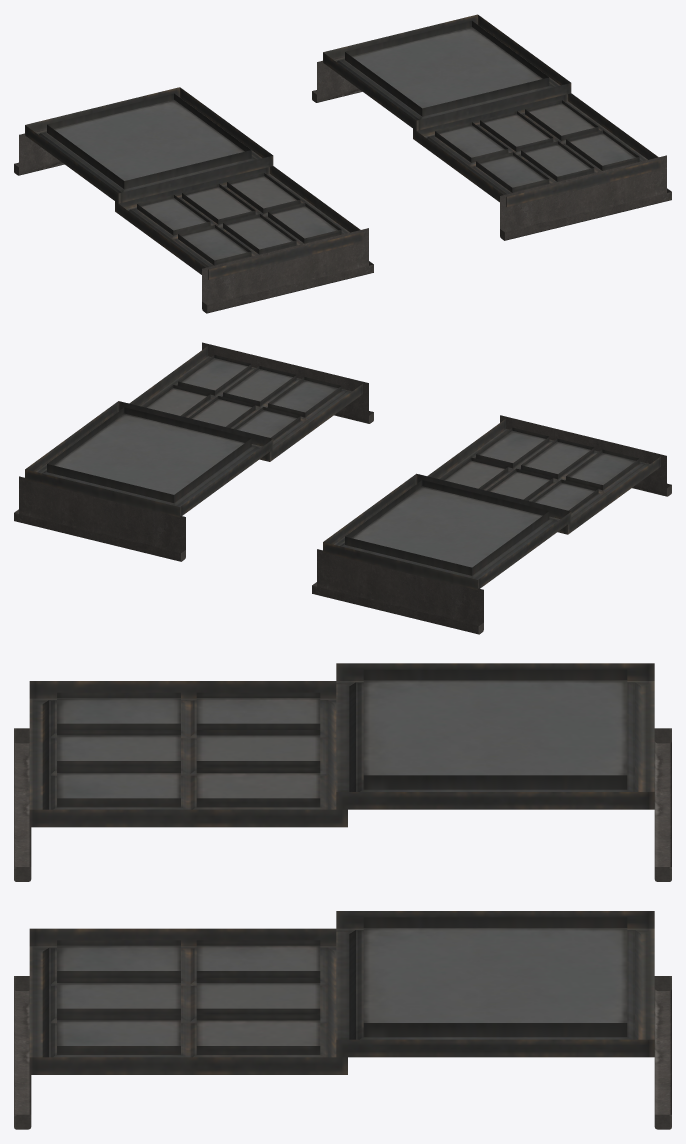
File: window_centered_double_03.gltf
The picture shows the model from 3 angles, top to bottom: view 1: azimuth 30°, elevation 25°; view 2: azimuth 150°, elevation 25°; view 3: azimuth 270°, elevation 25°; orthographic projection. The views are drawn at different scales.
Visible parts, largest first — view 1: window_centered_double_03; view 2: window_centered_double_03; view 3: window_centered_double_03.
Boxes of the visible parts, left/top/right/bottom form: window_centered_double_03: left=14, top=14, right=671, bottom=313; window_centered_double_03: left=14, top=342, right=671, bottom=634; window_centered_double_03: left=14, top=663, right=671, bottom=1129.
Size of the model in its own units: 2.34 by 0.2549 by 1.68.
Materials: 3 (3 with a texture image).
